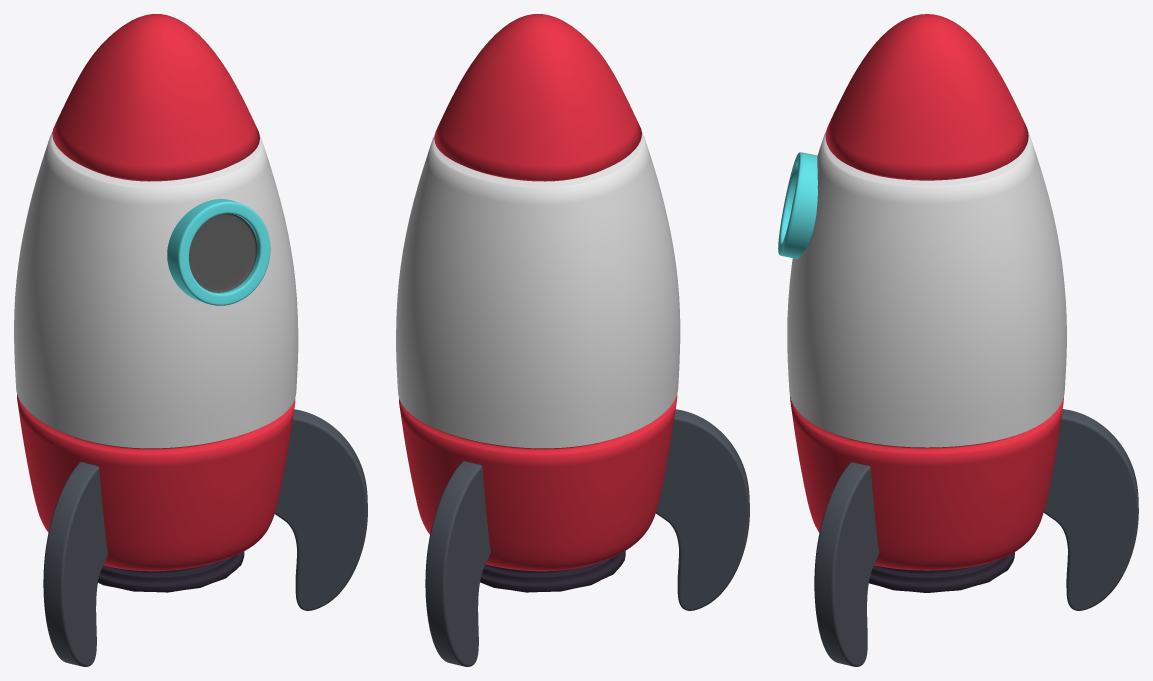
Rendered from rocket.fbx.
The picture shows the model from 3 angles, left to right: view 1: azimuth 30°, elevation 25°; view 2: azimuth 150°, elevation 25°; view 3: azimuth 270°, elevation 25°; orthographic projection.
Parts seen in each view (by area): view 1: RocketTop, RocketBottom, RocketTop.001, Leg3, Leg1, Window, WindowGlass, RocketStairs; view 2: RocketTop, RocketBottom, RocketTop.001, Leg1, Leg2, RocketStairs; view 3: RocketTop, RocketBottom, RocketTop.001, Leg2, Leg3, Window, RocketStairs.
Part boxes in pixels (box(x1,y1,x2,y2)): RocketTop: box(14, 132, 298, 448); RocketBottom: box(17, 394, 295, 571); RocketTop.001: box(52, 14, 259, 181); Leg3: box(274, 409, 367, 610); Leg1: box(43, 462, 107, 666); Window: box(167, 199, 270, 305); WindowGlass: box(189, 213, 256, 292); RocketStairs: box(98, 551, 244, 592); RocketTop: box(396, 132, 680, 448); RocketBottom: box(399, 394, 677, 571); RocketTop.001: box(434, 14, 641, 181); Leg1: box(656, 409, 749, 610); Leg2: box(425, 461, 490, 666); RocketStairs: box(480, 551, 625, 592); RocketTop: box(787, 132, 1066, 447); RocketBottom: box(790, 396, 1063, 570); RocketTop.001: box(825, 14, 1028, 180); Leg2: box(1043, 409, 1138, 610); Leg3: box(814, 462, 879, 666); Window: box(778, 152, 817, 258); RocketStairs: box(869, 552, 1014, 592).
Size of the model in its own units: 295 by 510 by 283.
